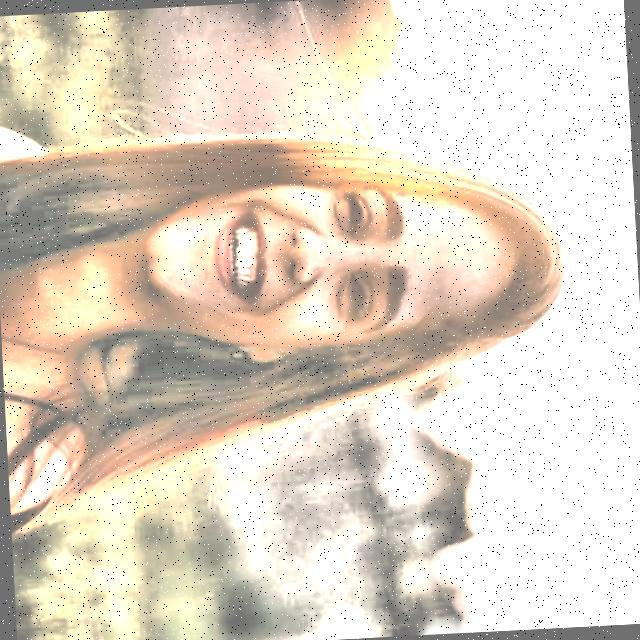happy: (122, 126, 570, 388)
